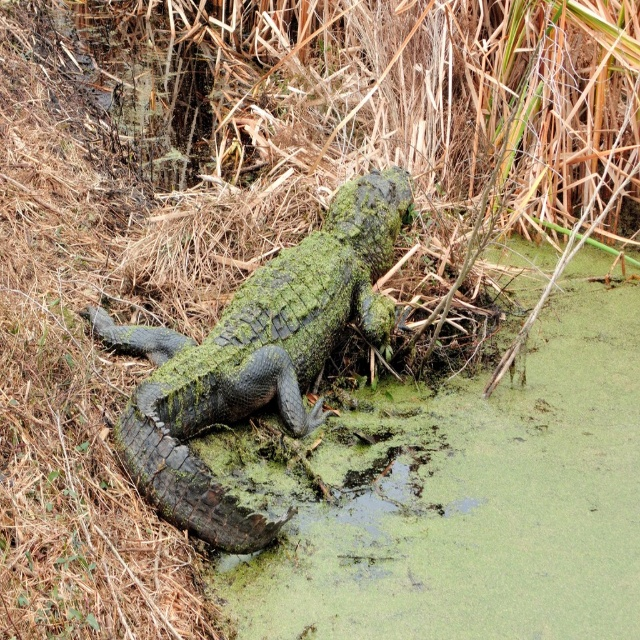Lizard: (74, 165, 415, 555)
